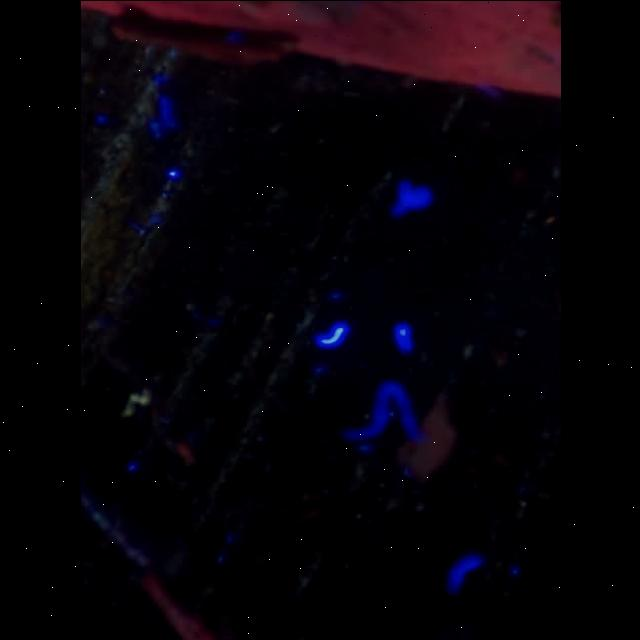Fibre: (120, 384, 150, 418)
